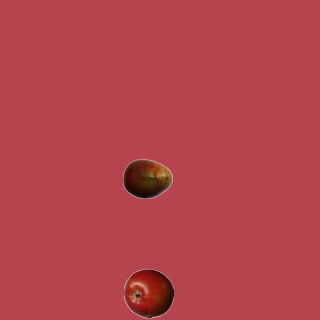Apple Braeburn: (123, 268, 173, 318)
Mango Red: (122, 153, 172, 203)
